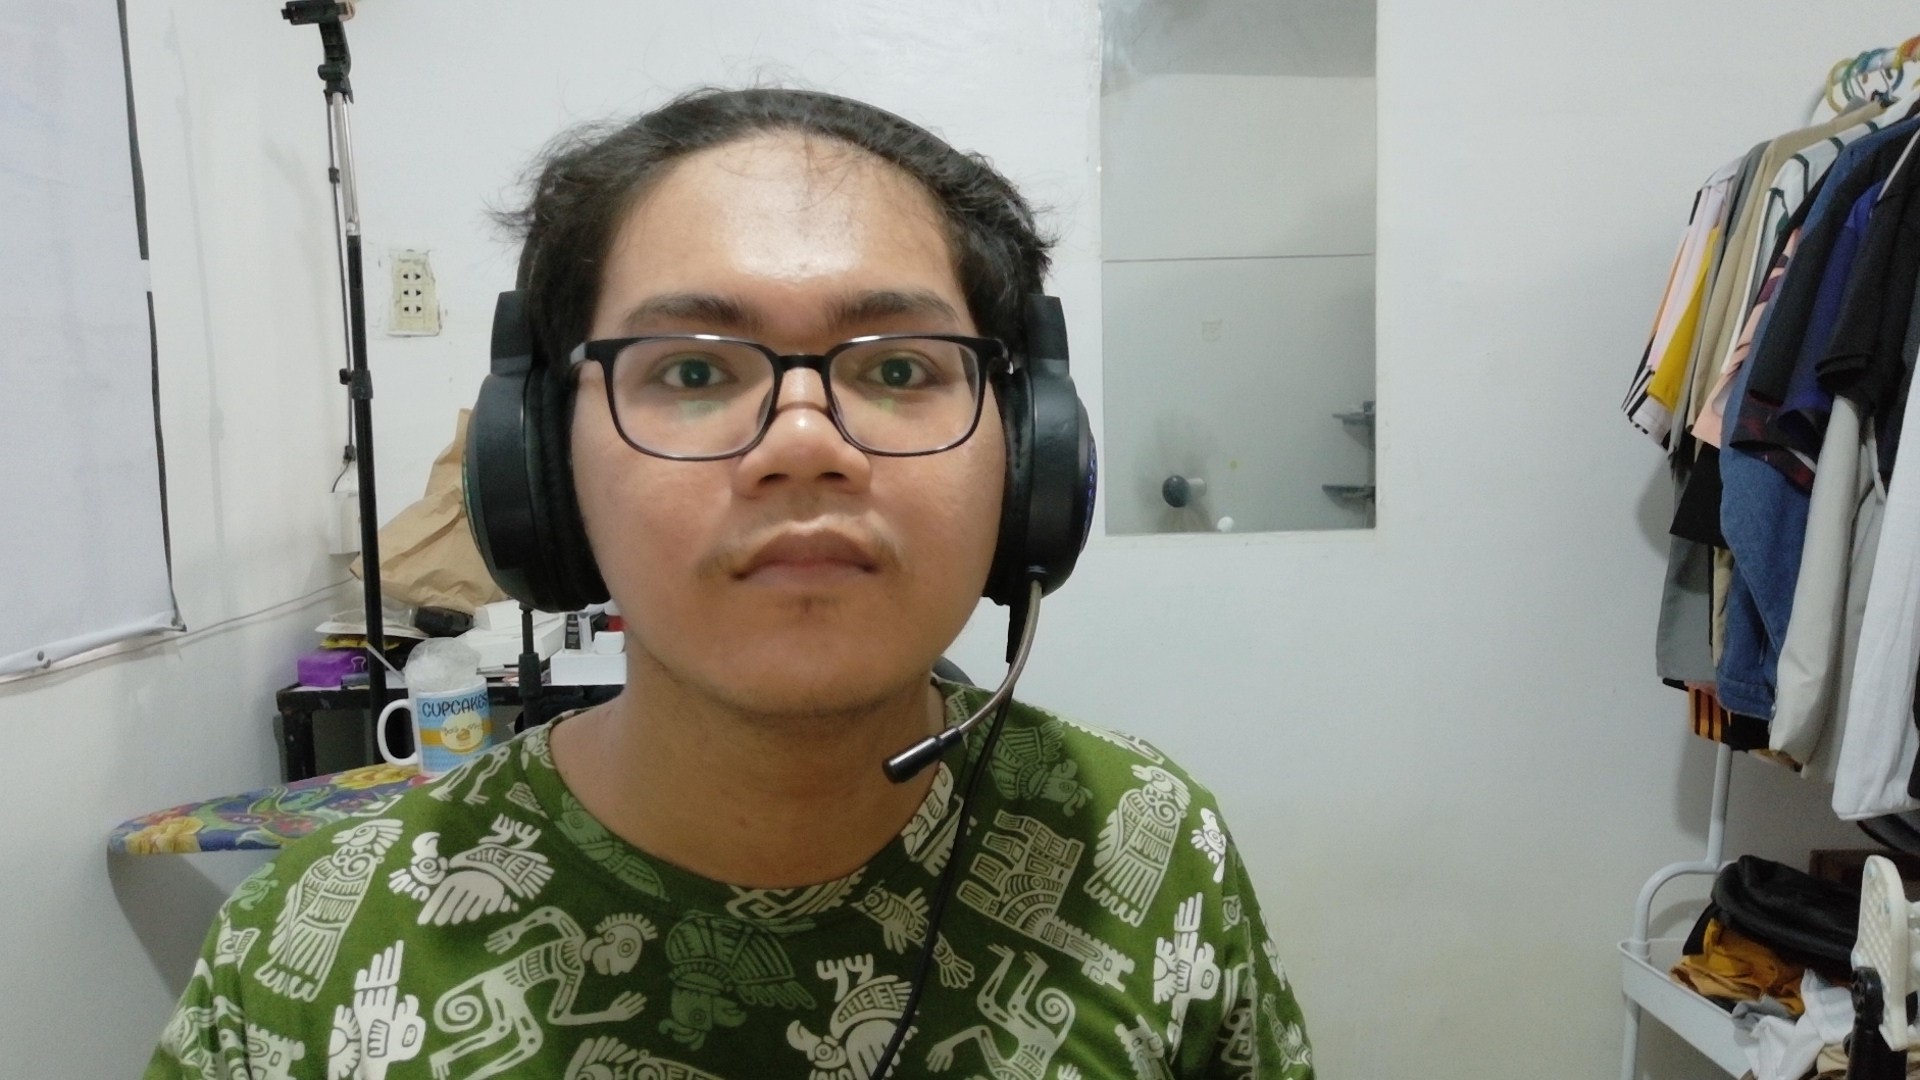face: (501, 60, 1143, 768)
